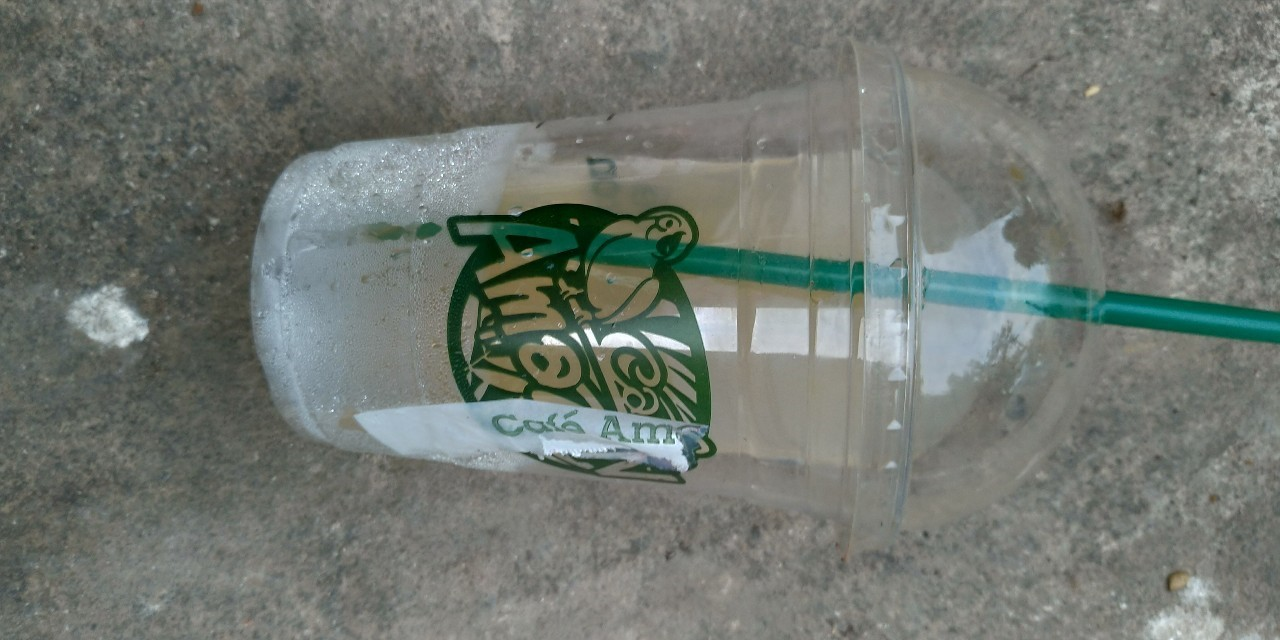PlasticCup: (251, 43, 1101, 519)
